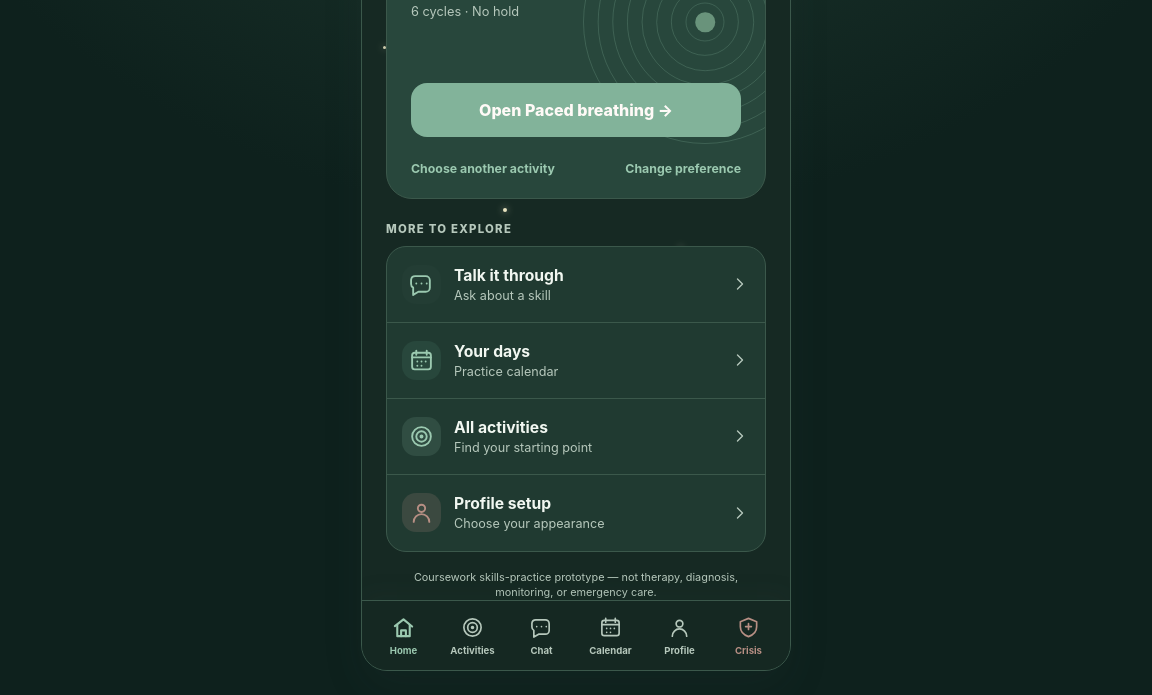
Test case: ClearSpace Part 3.2 flows › shows the reviewed STOP source when the chatbot suggests STOP
(page scrolled)
Click the button "All activities Find your starting point" at (576, 437), box x1=387 y1=399 x2=765 y2=475
(page scrolled)
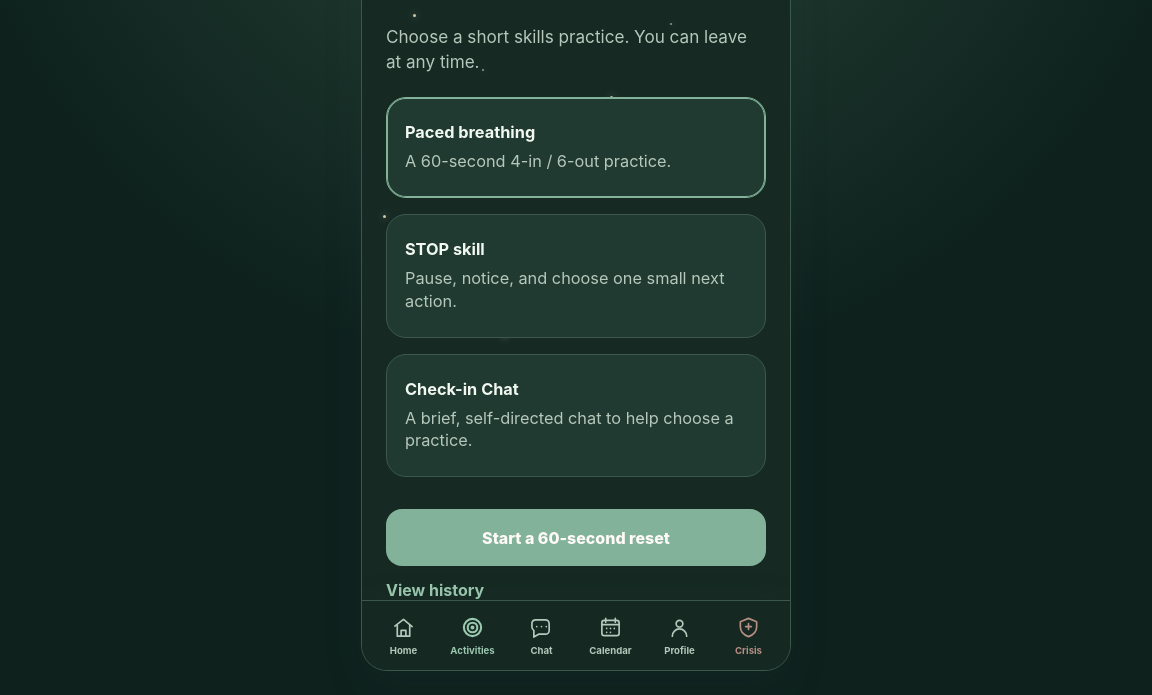
Click the button that starts with "Check-in Chat" at (576, 415), box x1=386 y1=354 x2=766 y2=477
(page scrolled)
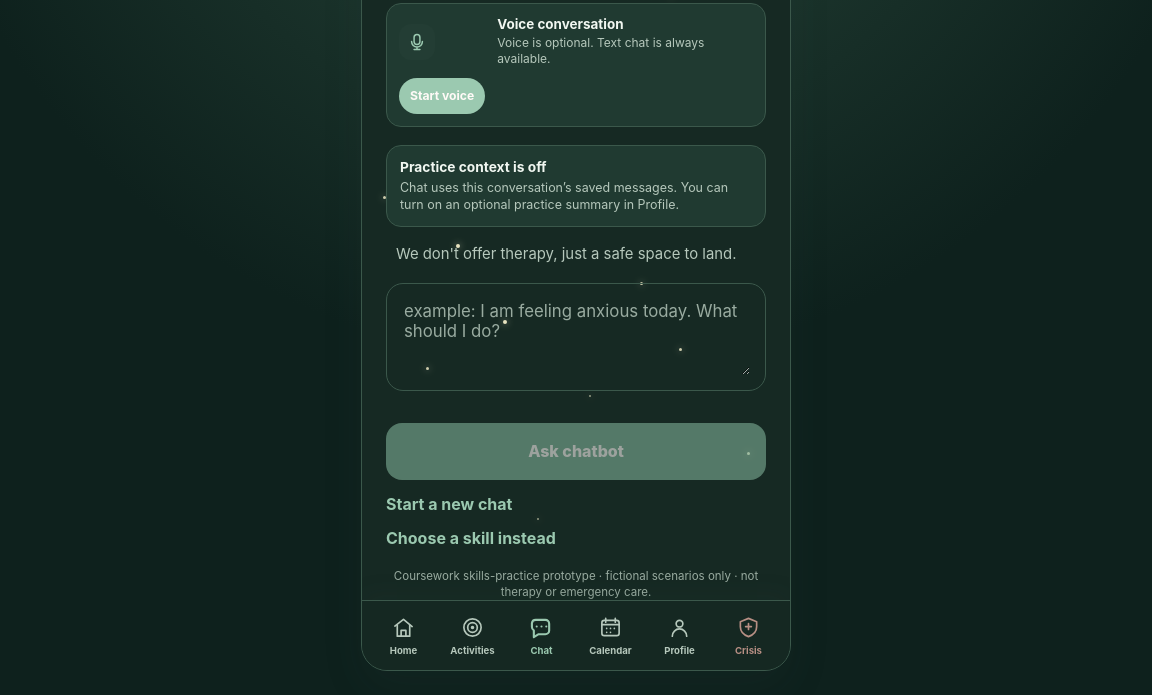
Type "Fictional pause question." into the text box with placeholder "example: I am feeling anxious today. What should I do?" at (576, 337), box x1=402 y1=299 x2=750 y2=375
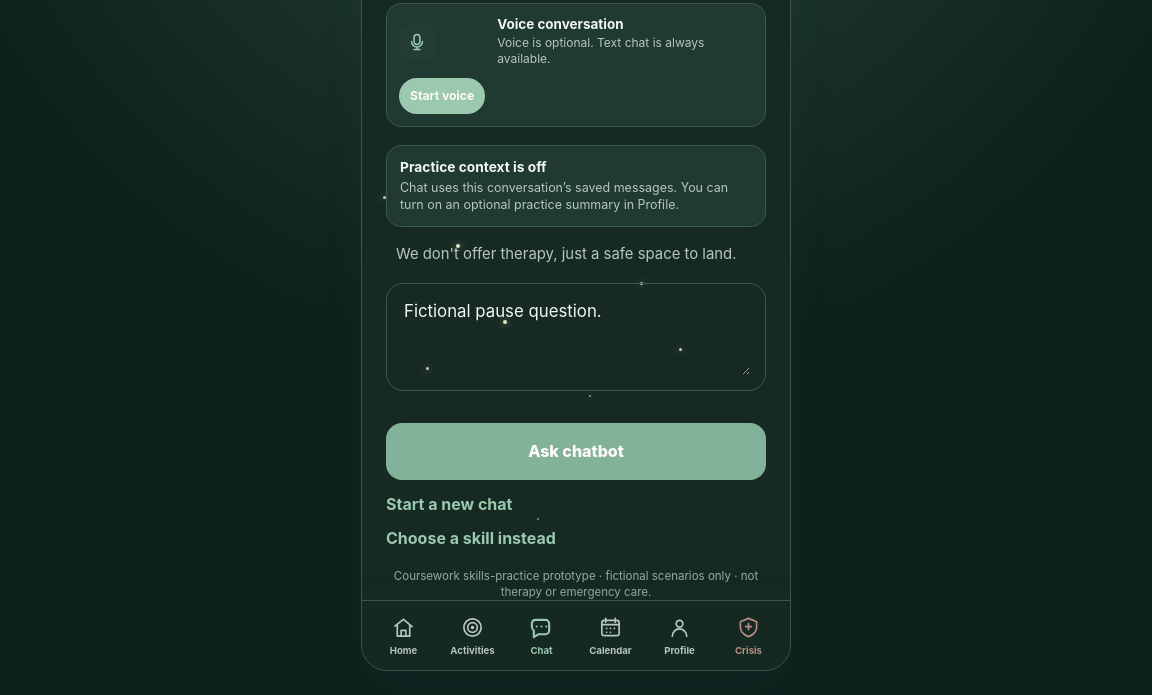
Click the button "Ask chatbot" at (576, 451), box x1=386 y1=423 x2=766 y2=480
(page scrolled)
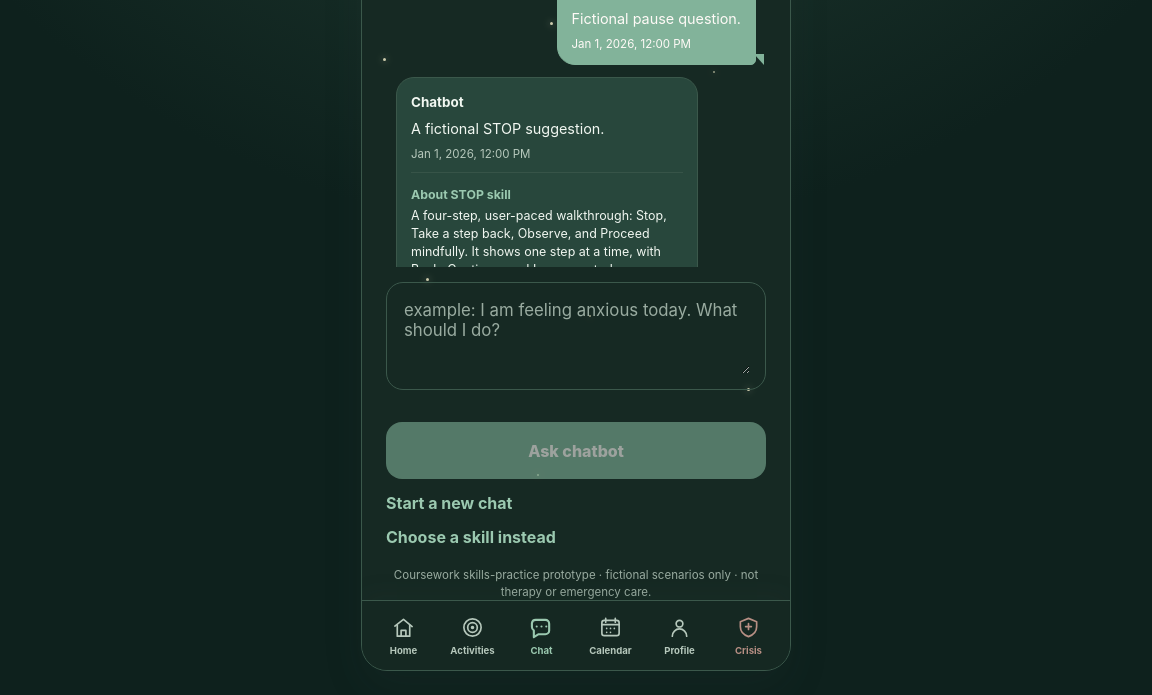
Result: the text "A four-step, user-paced walkthrough: Stop, Take a step back, Observe, and Proceed mindfully." is shown at x1=411 y1=208 x2=667 y2=267
